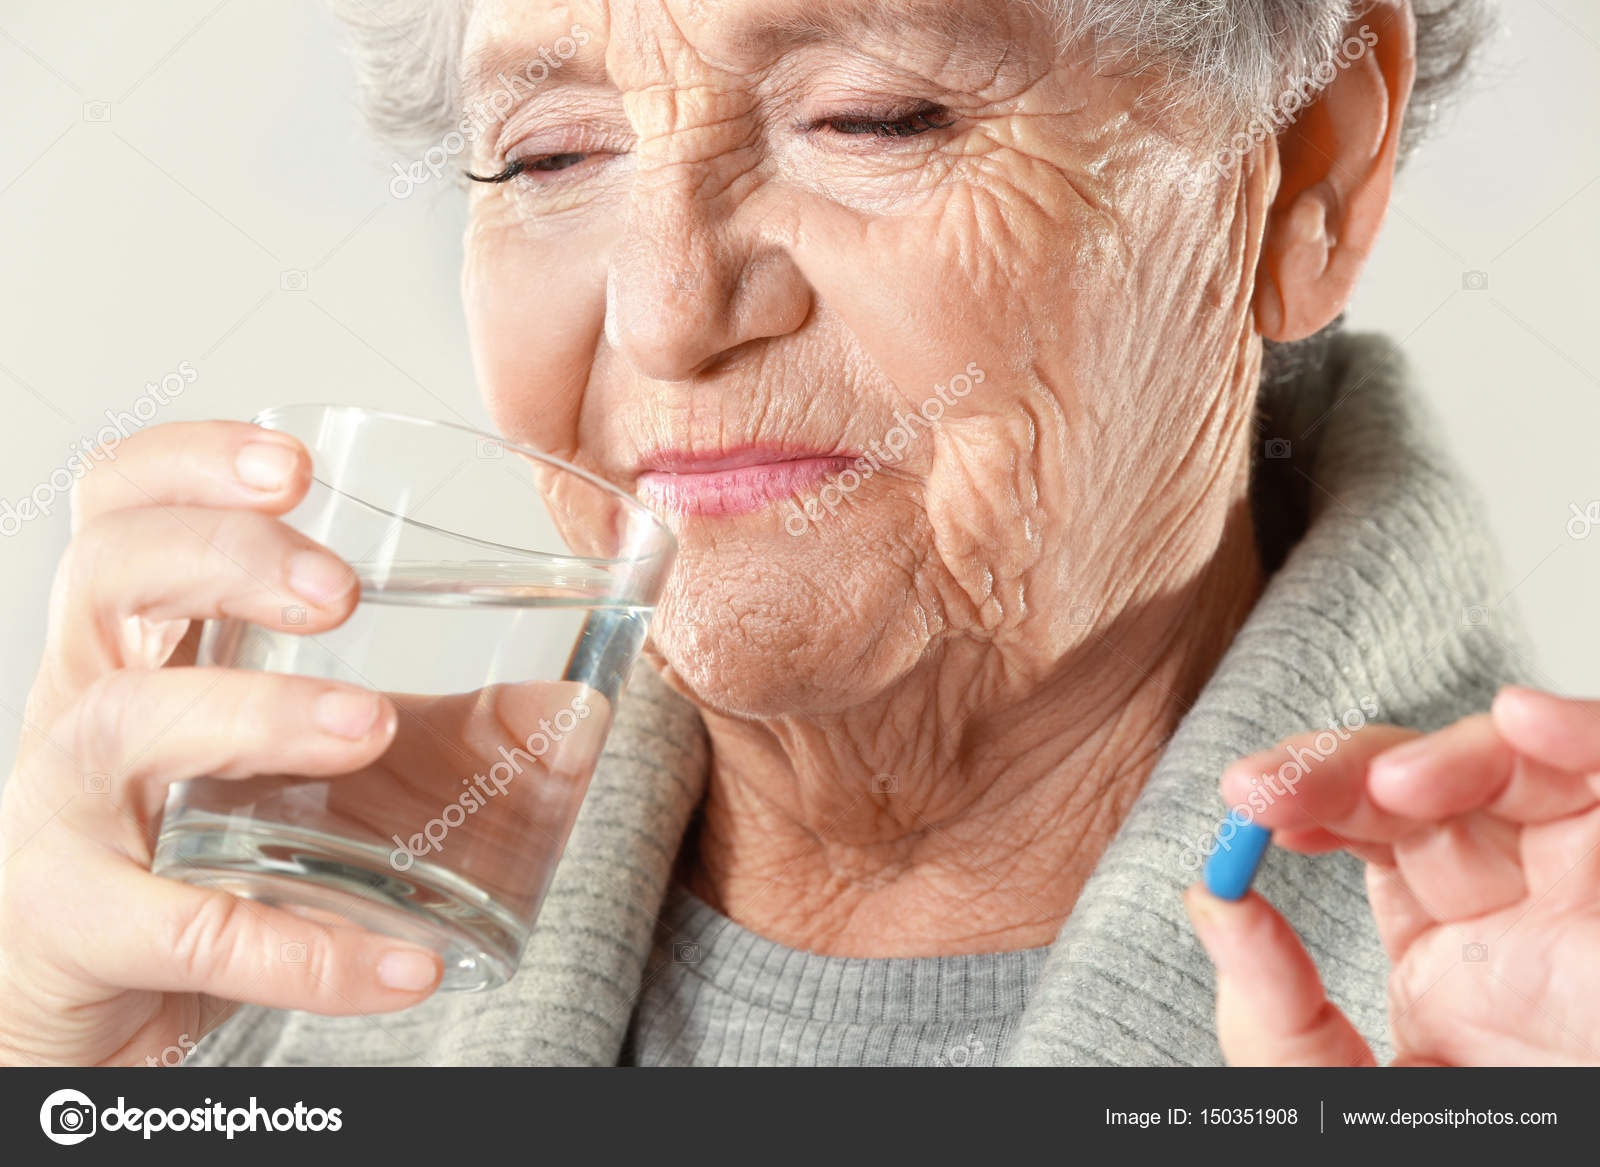pills: (1183, 803, 1293, 908)
